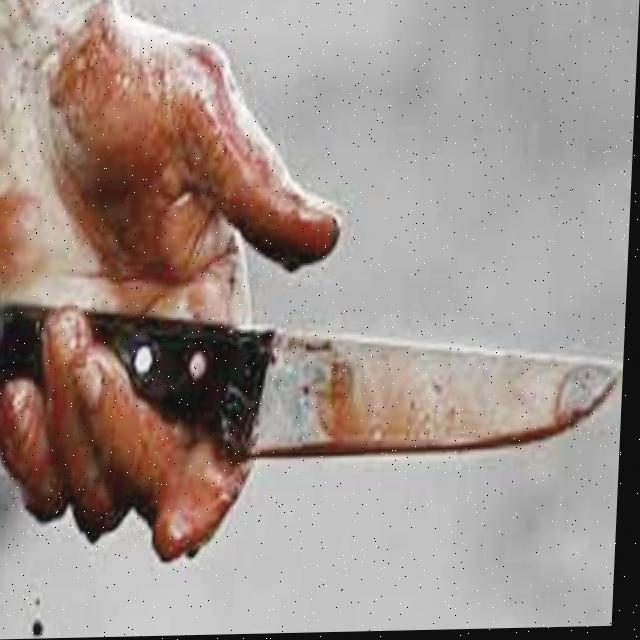knife: (212, 316, 627, 464)
